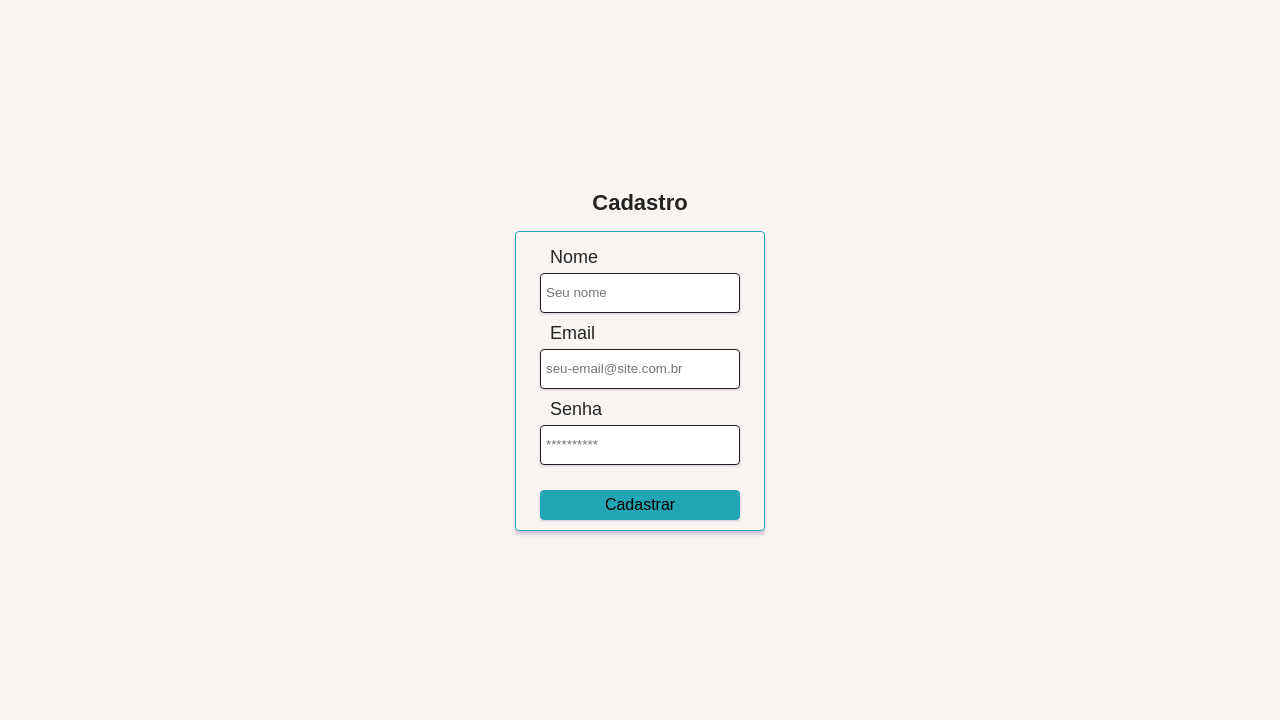
Test case: Register Page › Test sign up succeed › should show error message when login data is invalid
This screenshot has width=1280, height=720.
Type "Test user mock" into the field labelled "Nome" at (640, 292), box [540,272,740,312]
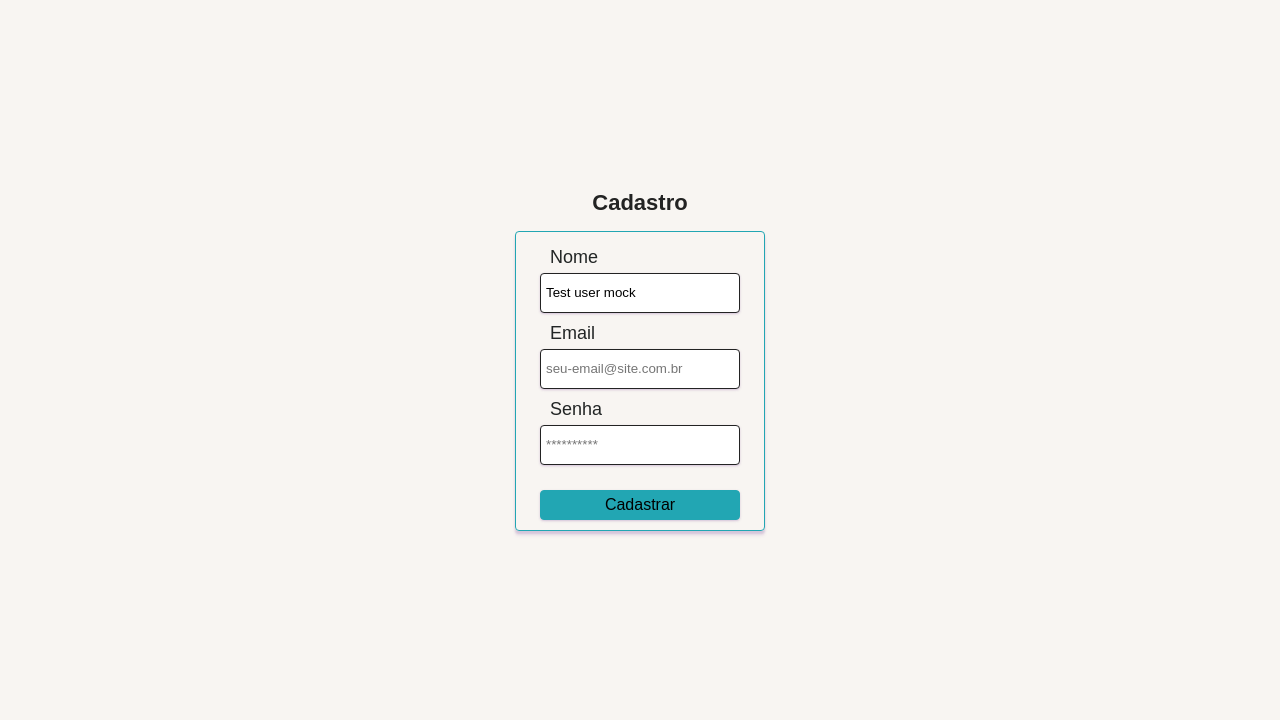
Type "test@test.com" into the field labelled "Email" at (640, 368), box [540,348,740,388]
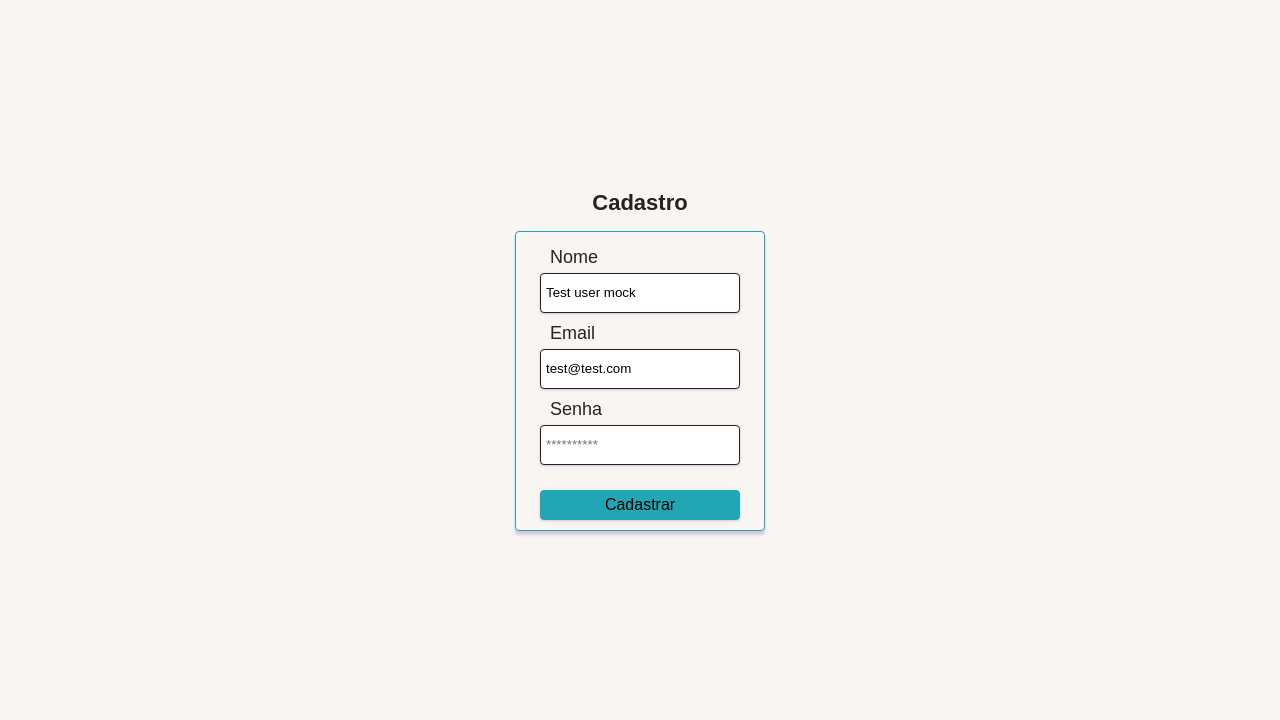
Type "test123456789" into the password field labelled "Senha" at (640, 444), box [540,424,740,464]
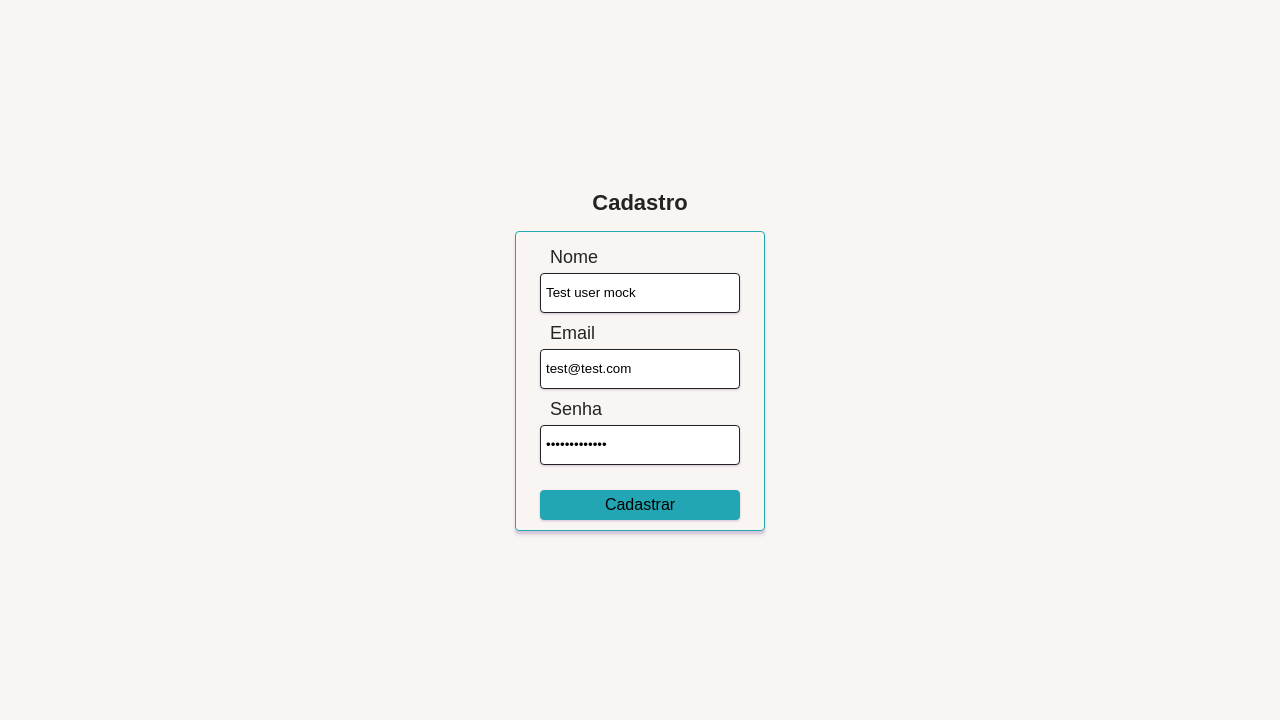
Click the button "Cadastrar" at (640, 504), box [540,490,740,520]
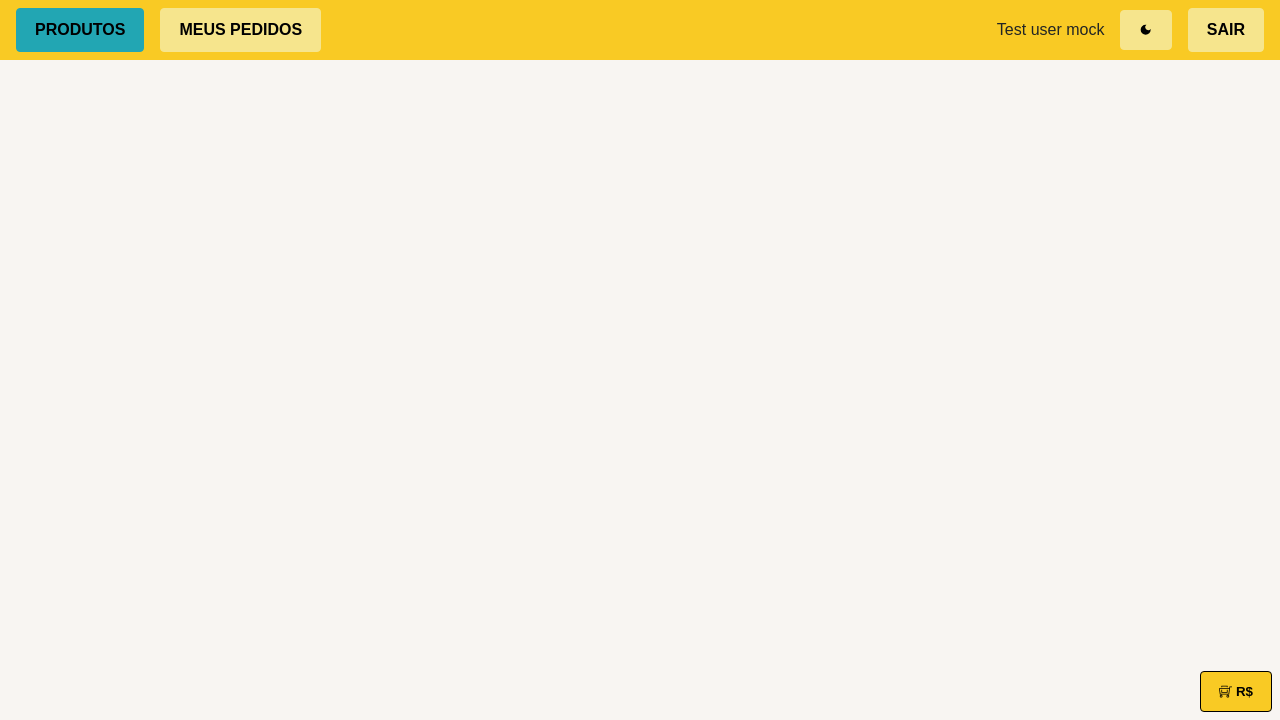
Expected: the text "Test user mock" is shown, [997,21,1104,39]
